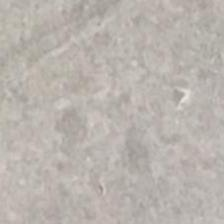Non_Crack: (16, 22, 211, 220)
